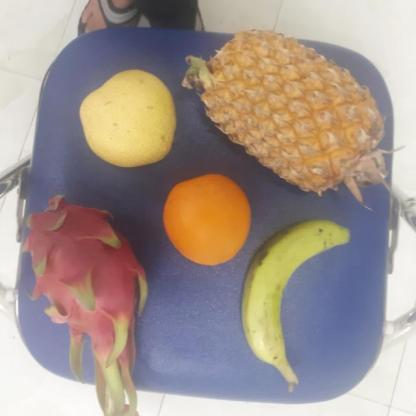banana: (244, 224, 338, 379)
orange: (162, 175, 252, 266)
pear: (77, 69, 180, 170)
pineapple: (200, 34, 390, 190)
pitaya: (18, 196, 151, 386)
